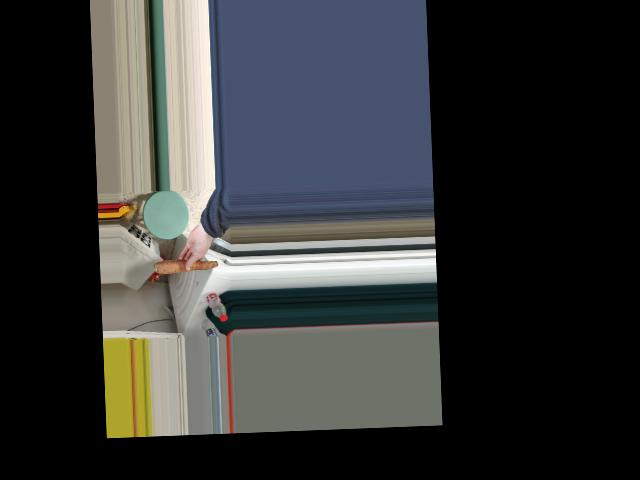sweet_potato: (155, 252, 219, 275)
